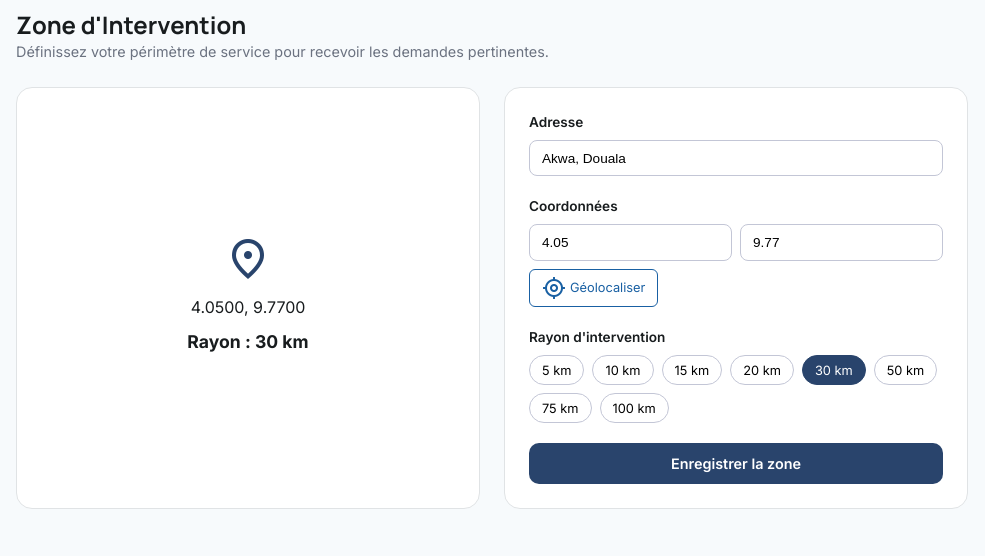
it: ZoneIntervention › conserve le rayon existant à l'enregistrement et envoie la zone au serveur
Expected: the text "Rayon : 30 km" is shown, [187, 328, 309, 356]
Click the button "Enregistrer la zone": (736, 464) [529, 443, 943, 484]
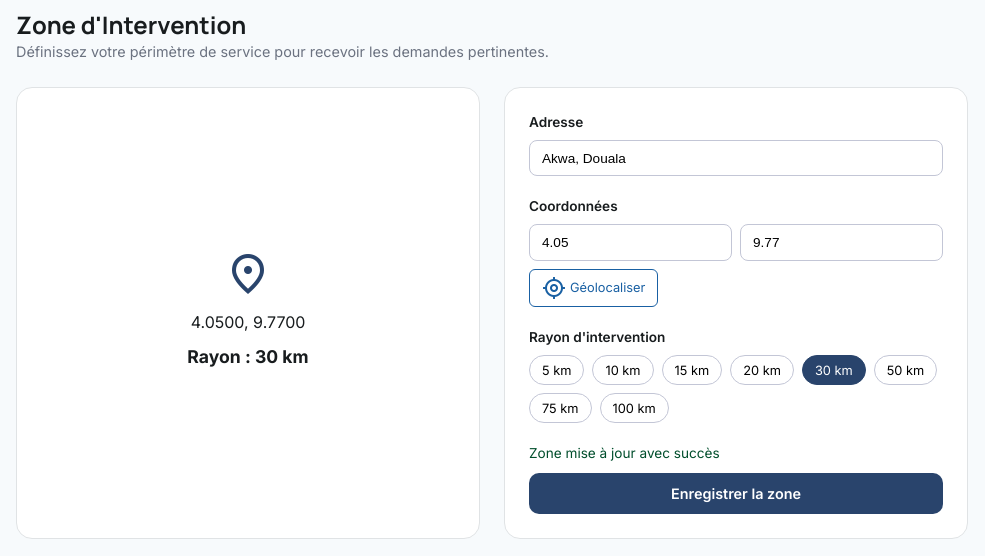
Expected: the text "Zone mise à jour avec succès" is shown, [529, 445, 720, 461]
